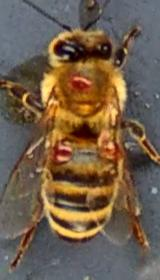varroa_mite: (58, 64, 96, 100), (96, 131, 124, 170), (50, 136, 81, 166)
